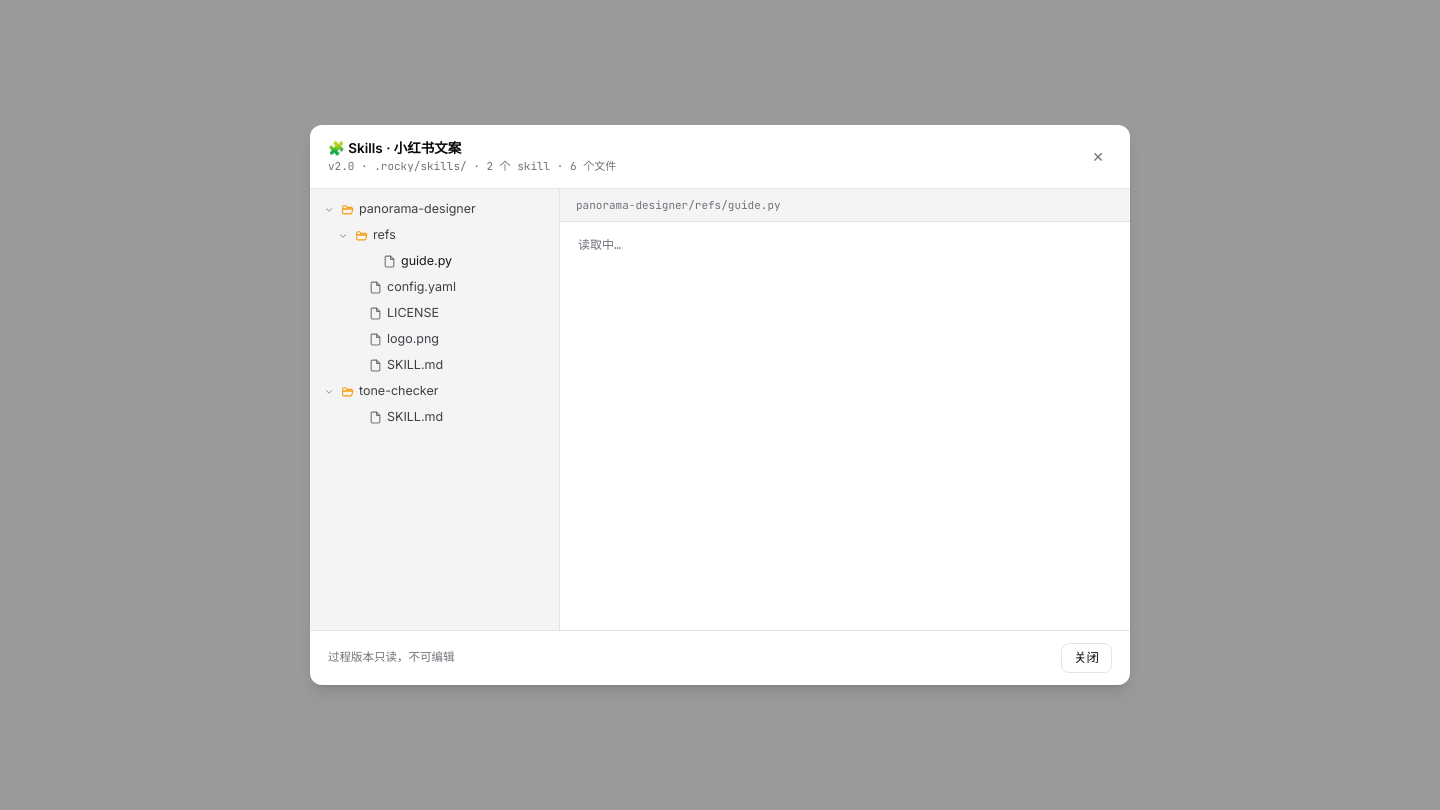
Test: ComponentSkillBrowserModal — 编辑保存 / 只读 › readOnly=true → 无编辑切换与保存按钮，且显只读提示
Click the button "guide.py".
click(434, 262)  # box [316,249,553,275]
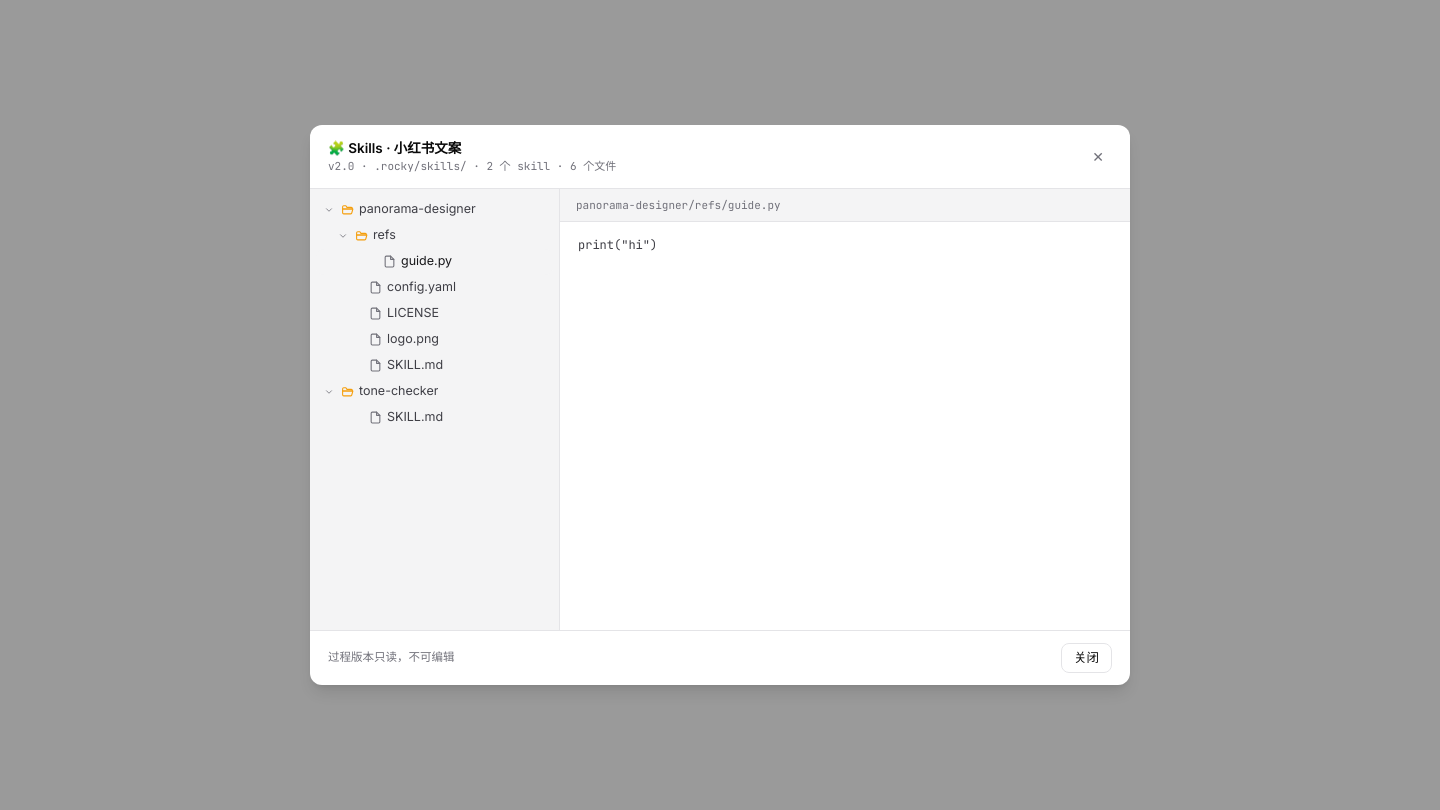
Check: the text "过程版本只读，不可编辑" is shown, box [328,649,454,667]
Check: the text "print(\"hi\")" is shown, box [560,222,1130,270]
